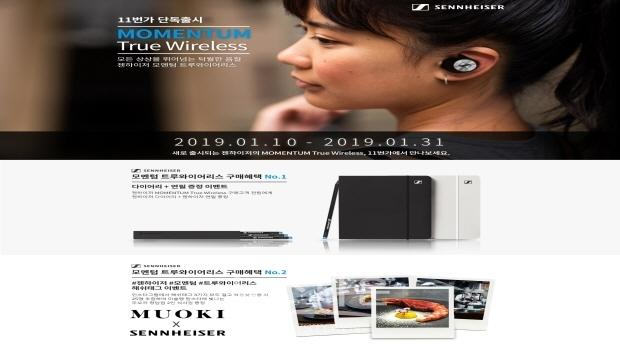earphone: (441, 48, 480, 79)
